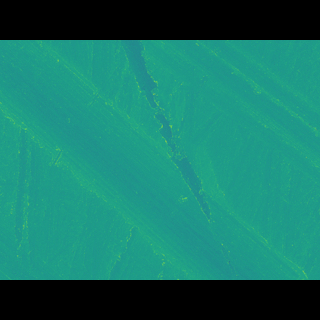Loch: (0, 69, 314, 250), (141, 69, 319, 178), (117, 68, 214, 216)
